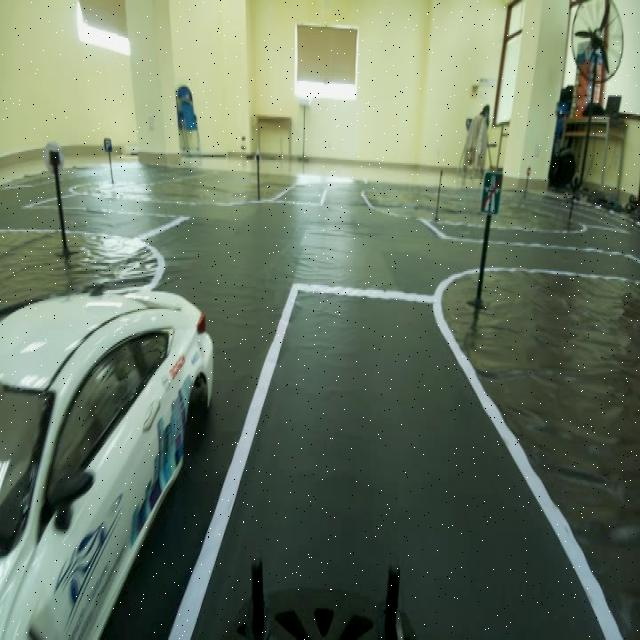car: (1, 245, 214, 640)
highway_exit: (478, 157, 511, 230)
